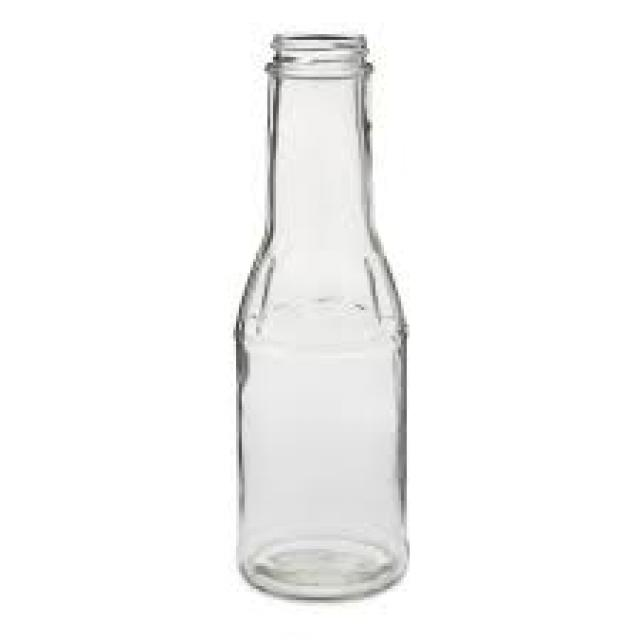Glass-Non-Biodegradable but Recyclable-: (235, 32, 413, 605)
